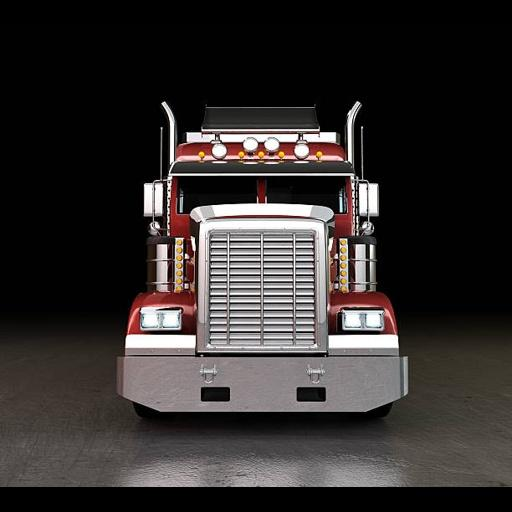truck: (111, 98, 411, 424)
